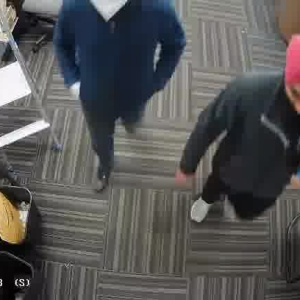person: (58, 0, 175, 186), (190, 55, 300, 219)
